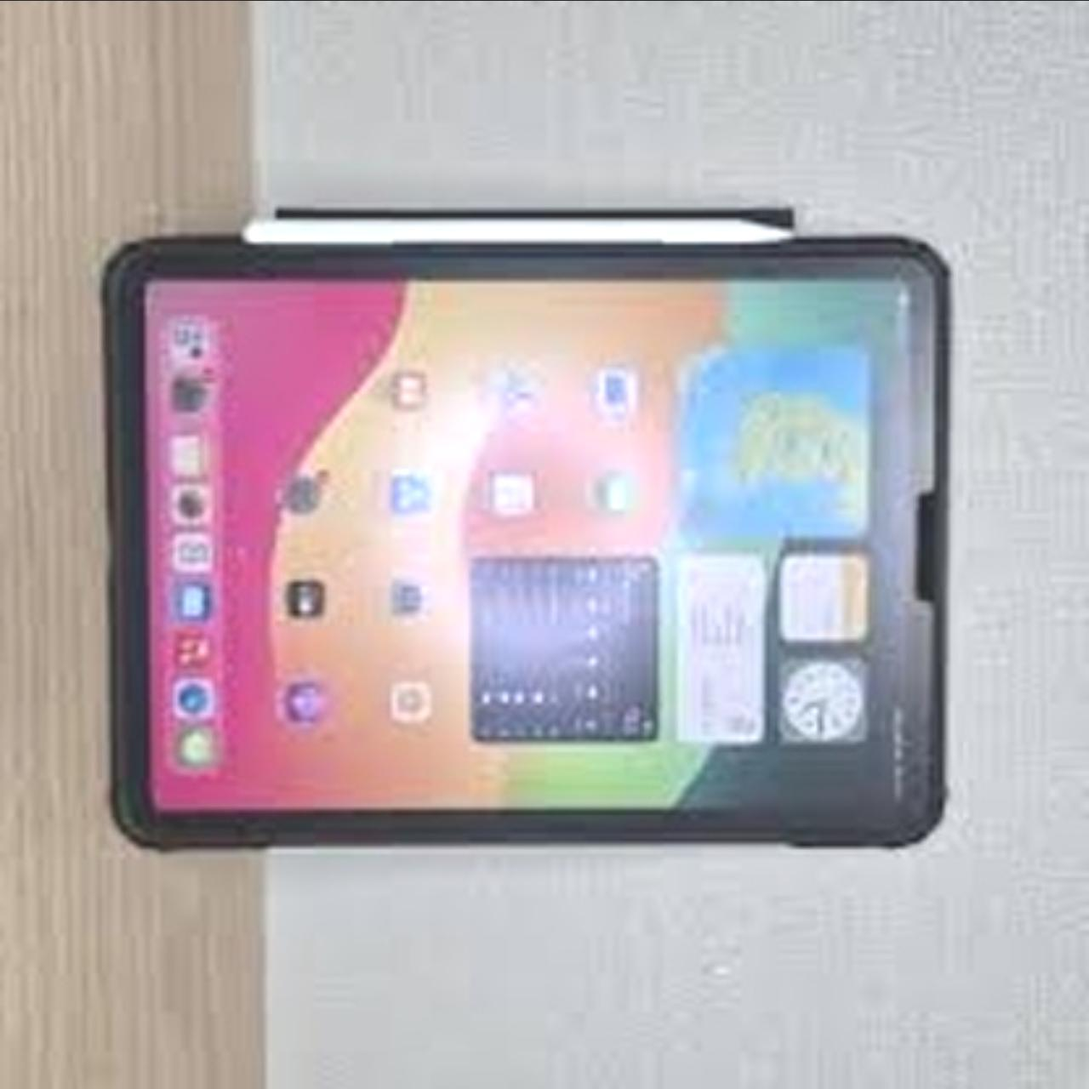Tablet_PC: (94, 184, 958, 861)
